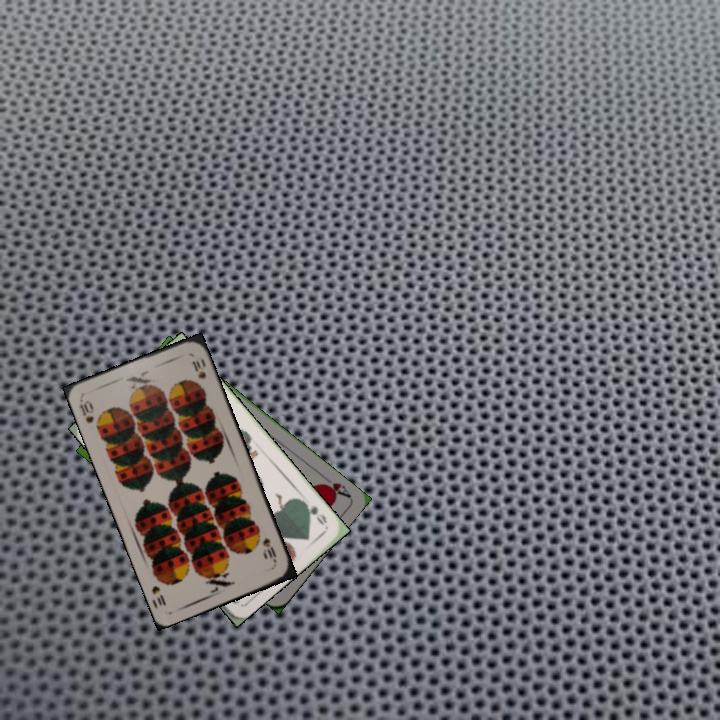GO: (298, 496, 330, 528)
HA: (316, 471, 353, 501)
S10: (258, 533, 279, 567), (75, 396, 96, 425)
